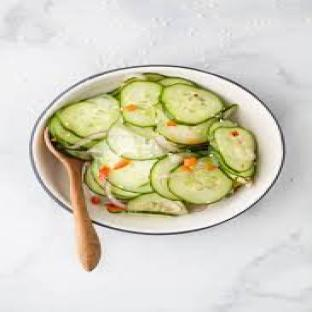Cucumber: (91, 142, 156, 192), (169, 158, 231, 204), (57, 95, 121, 137), (162, 84, 223, 124), (108, 123, 165, 159), (120, 81, 161, 127), (157, 112, 213, 145), (214, 128, 255, 172), (151, 155, 182, 199), (127, 193, 187, 215), (210, 150, 255, 179), (48, 115, 81, 147), (84, 167, 105, 196), (208, 118, 236, 137), (91, 162, 109, 190), (127, 124, 156, 139), (64, 149, 92, 159), (159, 78, 194, 86), (222, 105, 238, 119), (144, 73, 165, 81)
